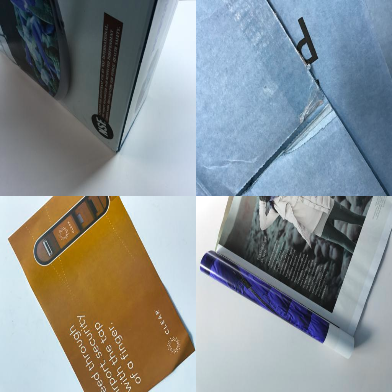cardboard: (197, 1, 391, 194), (1, 1, 180, 156)
paper: (7, 196, 195, 392), (200, 197, 392, 359)
